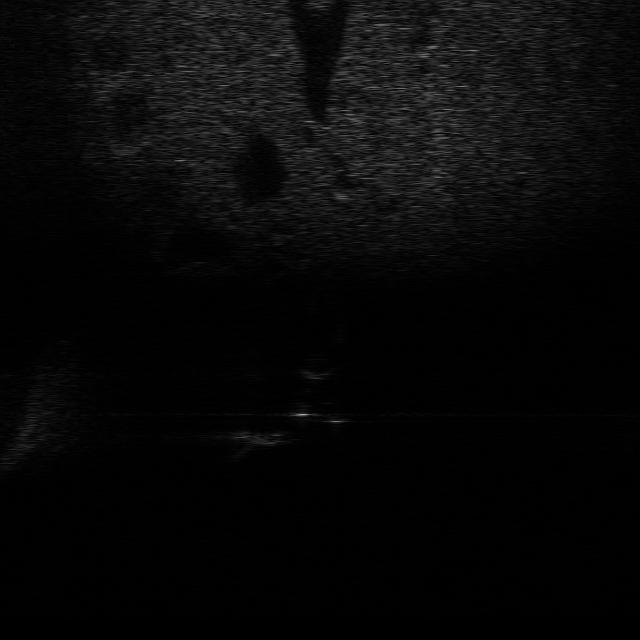ball: (289, 351, 340, 384)
square cage: (218, 425, 298, 458)
tyre: (282, 401, 356, 426)
